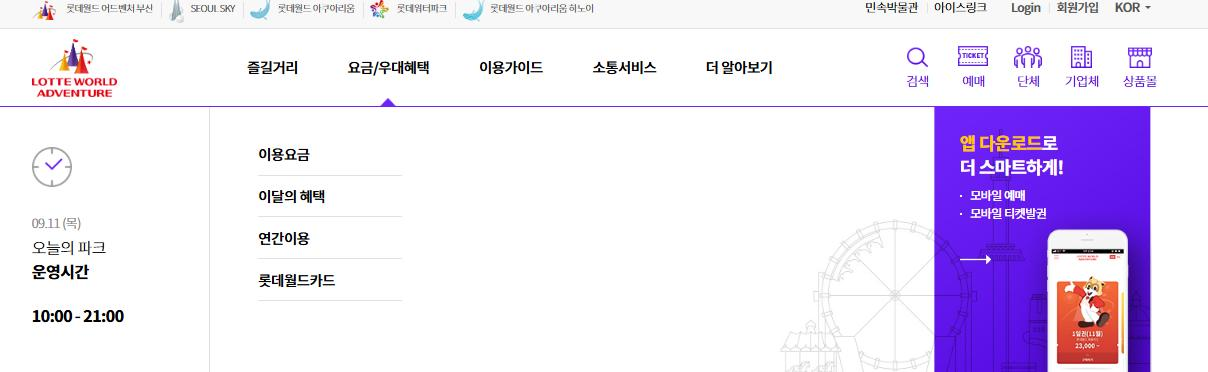button: (461, 0, 609, 26), (343, 45, 443, 81), (28, 0, 161, 27), (689, 49, 788, 84), (472, 45, 554, 83), (246, 264, 347, 292), (586, 48, 663, 84), (246, 0, 359, 24), (1114, 41, 1166, 89), (240, 51, 314, 84), (256, 216, 324, 251), (953, 41, 998, 91), (1010, 38, 1053, 90), (365, 0, 456, 24), (897, 43, 941, 92), (254, 183, 339, 208), (1064, 45, 1103, 92), (252, 141, 318, 168), (170, 0, 243, 24), (864, 0, 930, 20), (935, 0, 1001, 18), (1057, 0, 1111, 17), (1113, 0, 1163, 17), (1007, 0, 1049, 17)
popup: (934, 104, 1153, 372)
